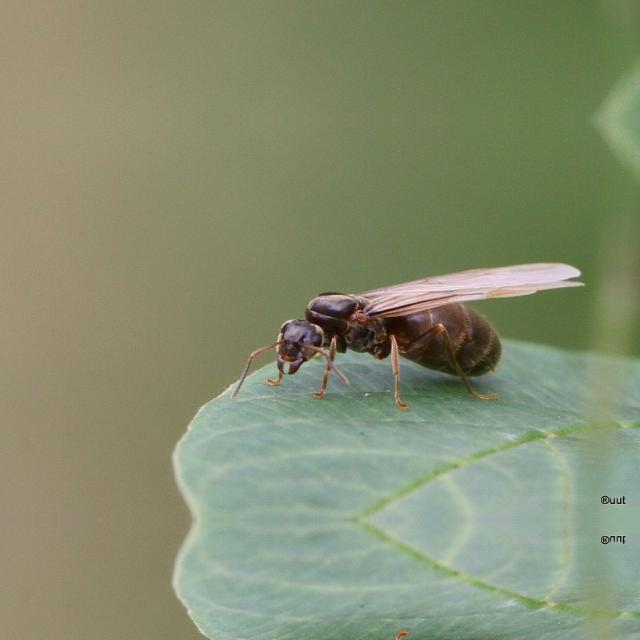Lasius: (199, 226, 575, 407)
